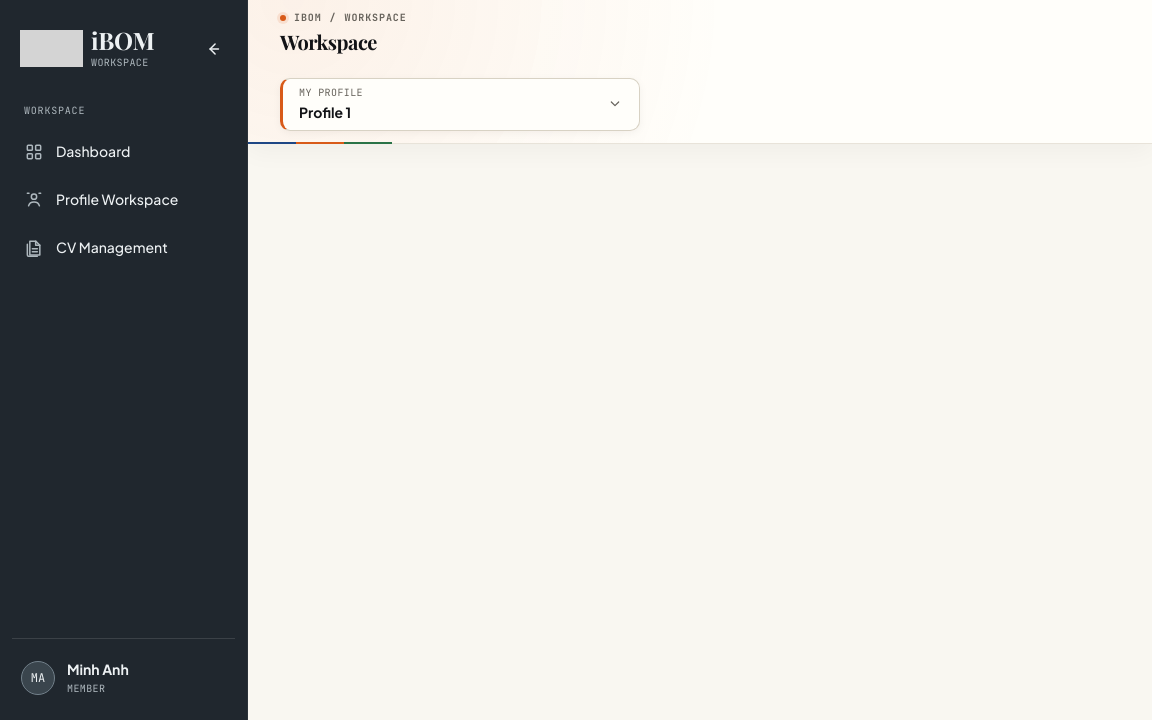
Test case: ApplicationShellComponent › shows a profile count and scroll hint when more than three Profiles are available
Click the button "My Profile Profile 1": (331, 92) [280,78,640,131]
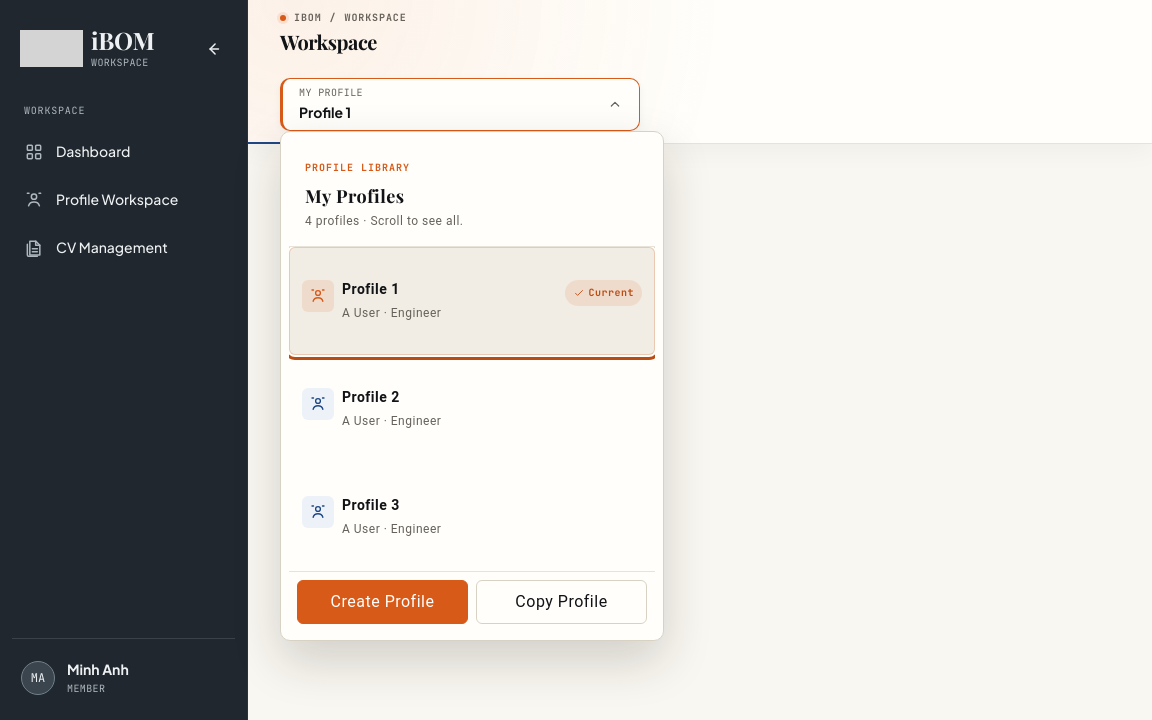
Expected: the menu is shown, [280,131,664,641]
Expected: the text "4 profiles · Scroll to see all." is shown, [305,214,464,228]
